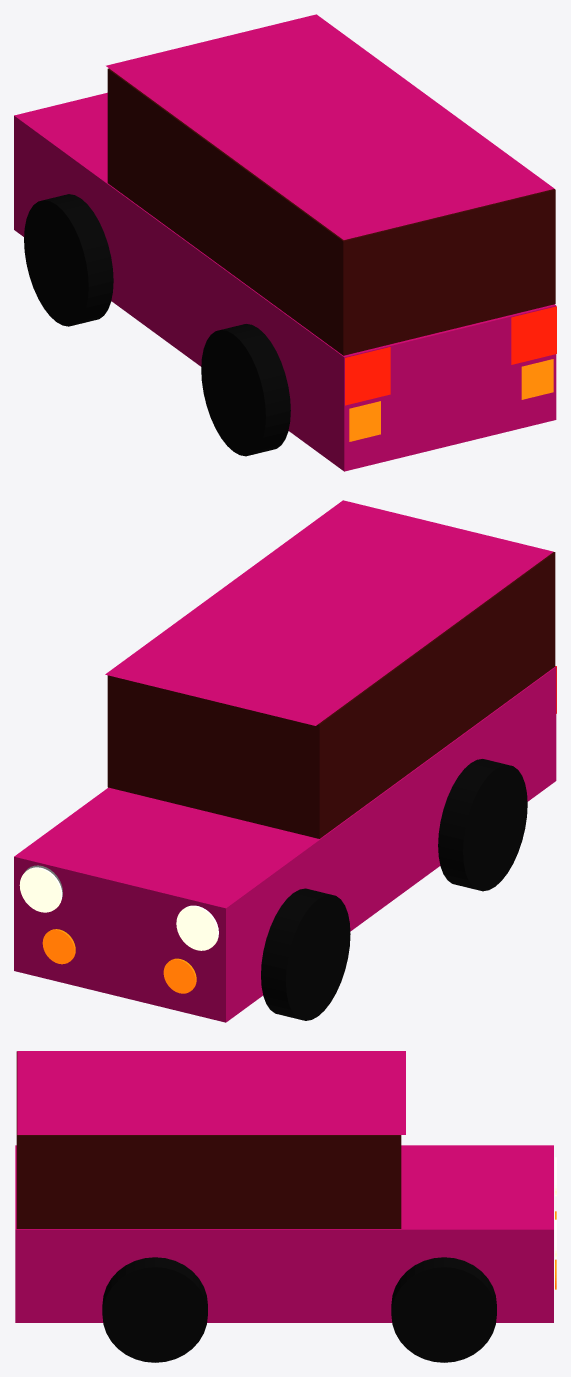
The model's file is new car 6.fbx.
3 views of the same model, one above another, from view 1: azimuth 30°, elevation 25°; view 2: azimuth 150°, elevation 25°; view 3: azimuth 270°, elevation 25° (orthographic). The views are drawn at different scales.
Parts seen in each view (by area): view 1: Cube.017, Cube.016, Plane.052, Circle.086, Circle.088, Plane.048, Plane.049, Plane.050, Plane.051; view 2: Cube.016, Cube.017, Plane.052, Circle.088, Circle.086, Circle.089, Circle.081, Circle.083, Circle.082; view 3: Cube.016, Cube.017, Plane.052, Circle.085, Circle.087.
Part boxes in pixels (left/top/right/bottom): Cube.017: left=107, top=68, right=555, bottom=355; Cube.016: left=14, top=92, right=556, bottom=471; Plane.052: left=106, top=14, right=554, bottom=239; Circle.086: left=24, top=194, right=113, bottom=326; Circle.088: left=201, top=324, right=290, bottom=456; Plane.048: left=345, top=347, right=390, bottom=405; Plane.049: left=511, top=306, right=556, bottom=364; Plane.050: left=521, top=359, right=553, bottom=399; Plane.051: left=349, top=401, right=380, bottom=441; Cube.016: left=14, top=666, right=556, bottom=1022; Cube.017: left=107, top=552, right=555, bottom=838; Plane.052: left=105, top=500, right=553, bottom=725; Circle.088: left=438, top=759, right=527, bottom=891; Circle.086: left=261, top=888, right=350, bottom=1020; Circle.089: left=176, top=905, right=218, bottom=950; Circle.081: left=19, top=867, right=62, bottom=912; Circle.083: left=42, top=929, right=75, bottom=964; Circle.082: left=163, top=958, right=196, bottom=993; Cube.016: left=15, top=1145, right=553, bottom=1322; Cube.017: left=16, top=1051, right=401, bottom=1228; Plane.052: left=17, top=1051, right=405, bottom=1134; Circle.085: left=391, top=1257, right=496, bottom=1362; Circle.087: left=102, top=1257, right=207, bottom=1362.
Size of the model in its own units: 247 by 241 by 544.
